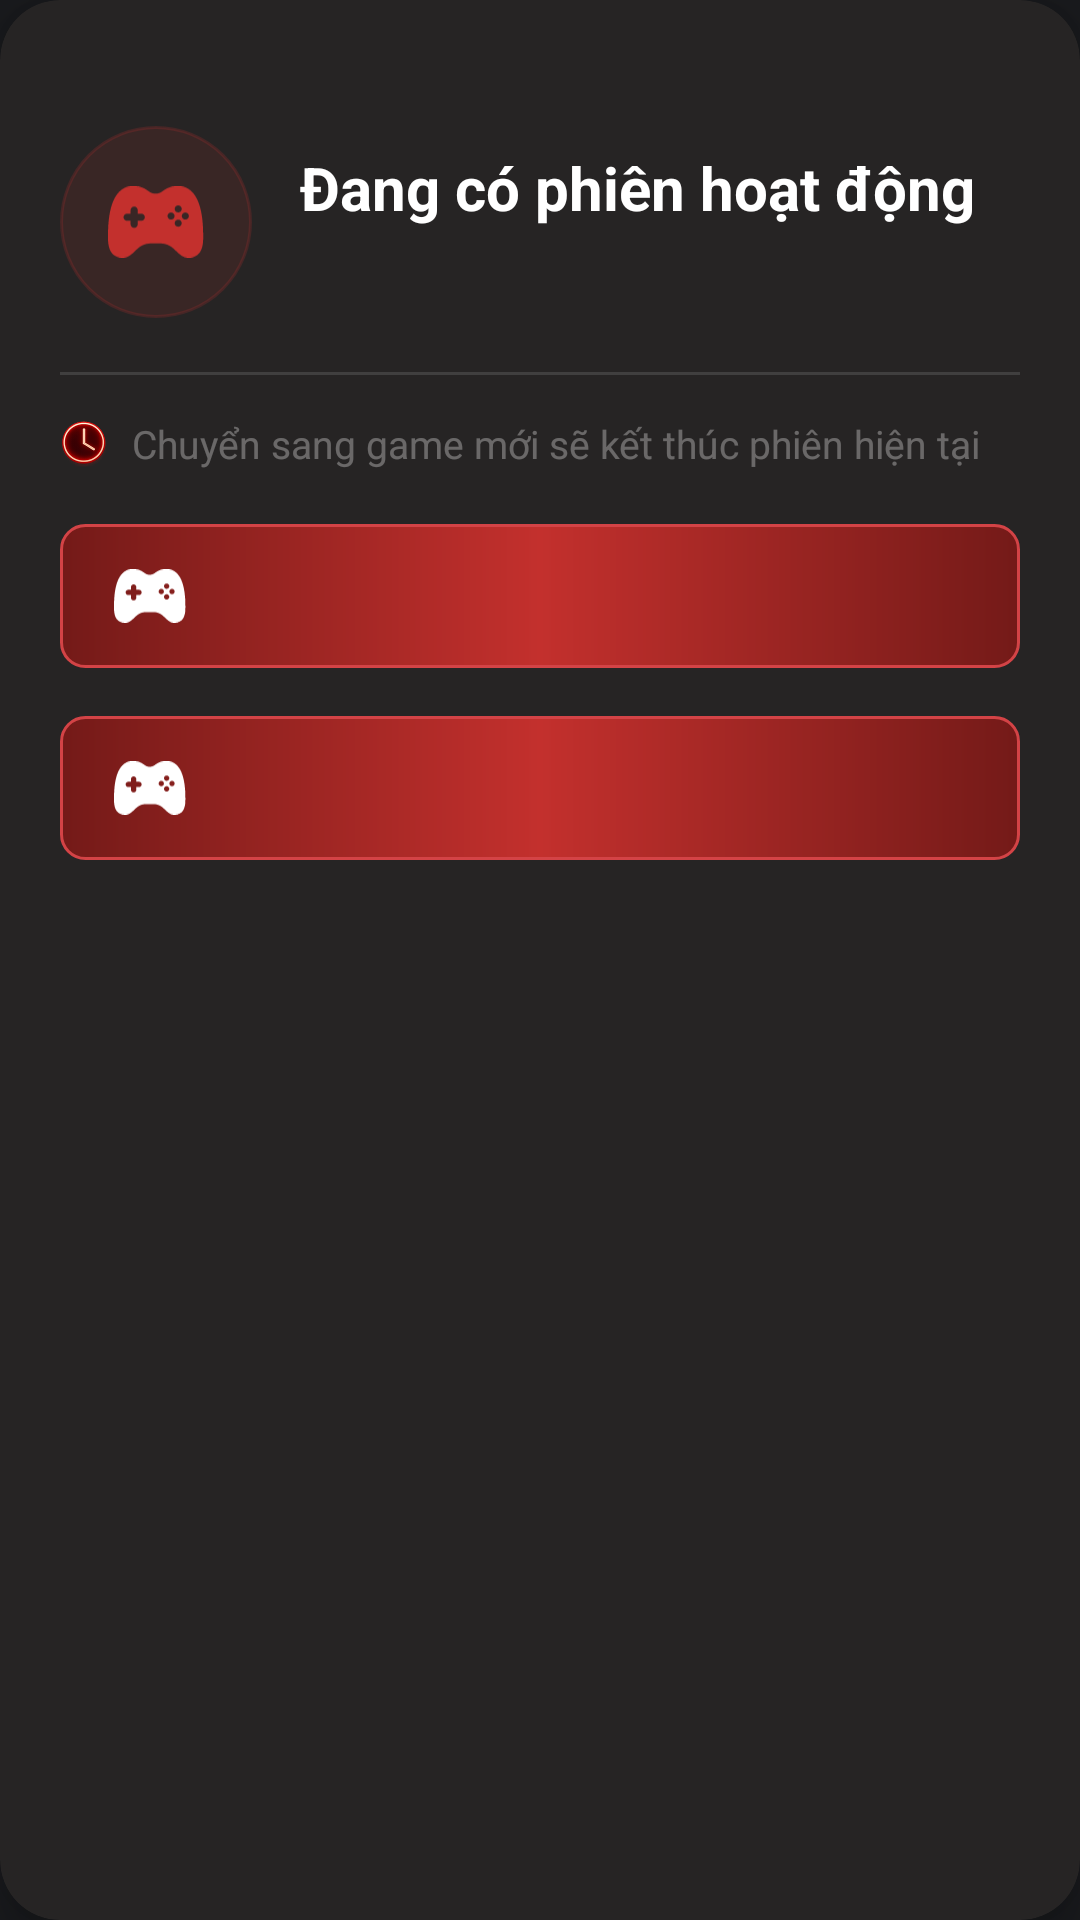

Screen size 1080*1920. Icon name, then its center in pixels as [x,y]:
controller game: [156,222], [150,596], [150,788]
sub time: [84,443]
